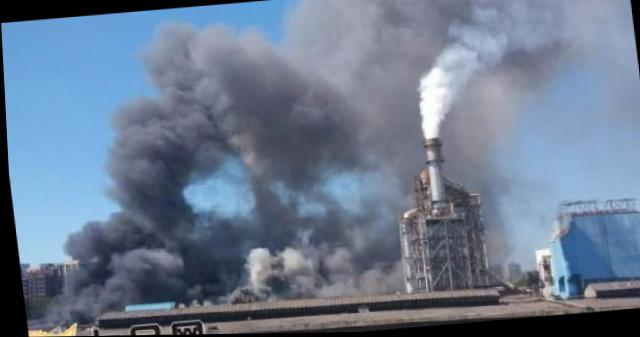smoke: (288, 0, 598, 87), (201, 205, 402, 301), (204, 82, 353, 183), (351, 69, 509, 163), (93, 93, 206, 219), (53, 210, 185, 316), (134, 14, 275, 99), (468, 152, 509, 269), (366, 161, 411, 207)
